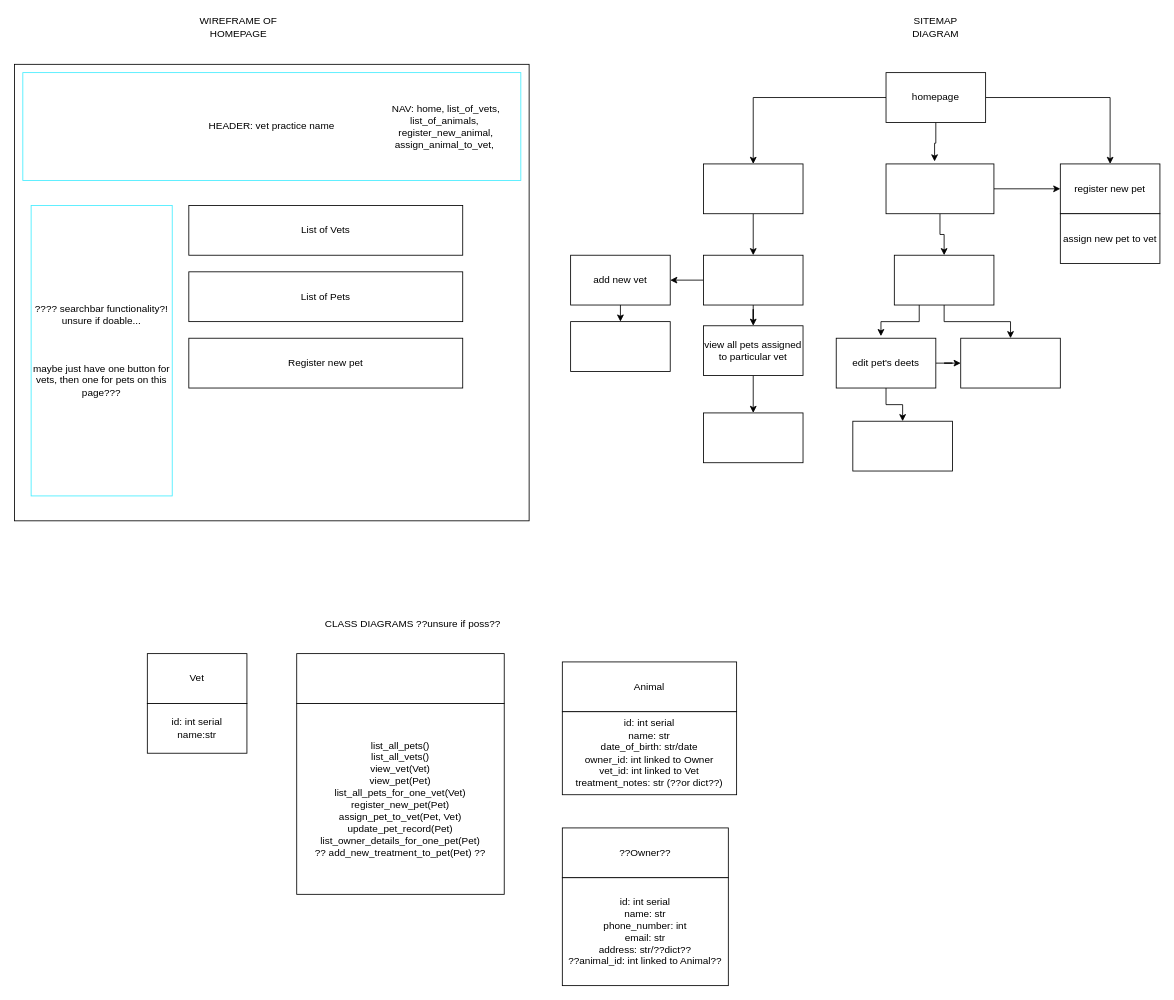
This 1174x1000 diagram has some shape labels left out. Here are the shapes that lost their labels. From the top down, the centre of each, then its label:
At pixel 753 188: "list all vets".
At pixel 939 188: "list all pets".
At pixel 753 279: "view one vet".
At pixel 943 279: "view one pet's deets".
At pixel 620 346: "edit vet's deets".
At pixel 1010 362: "assign pet to vet".
At pixel 753 437: "delete vet record".
At pixel 902 445: "delete pet record".
At pixel 400 678: "Practice".
